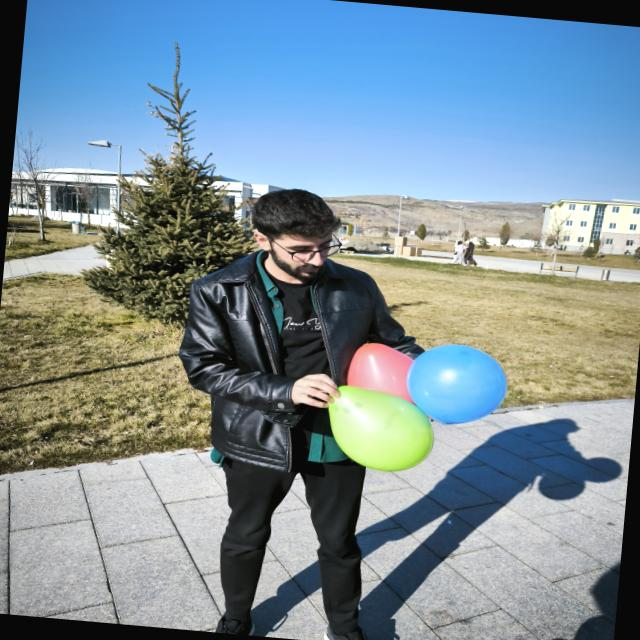balloon: (327, 385, 433, 471), (406, 344, 506, 423), (347, 343, 412, 403)
